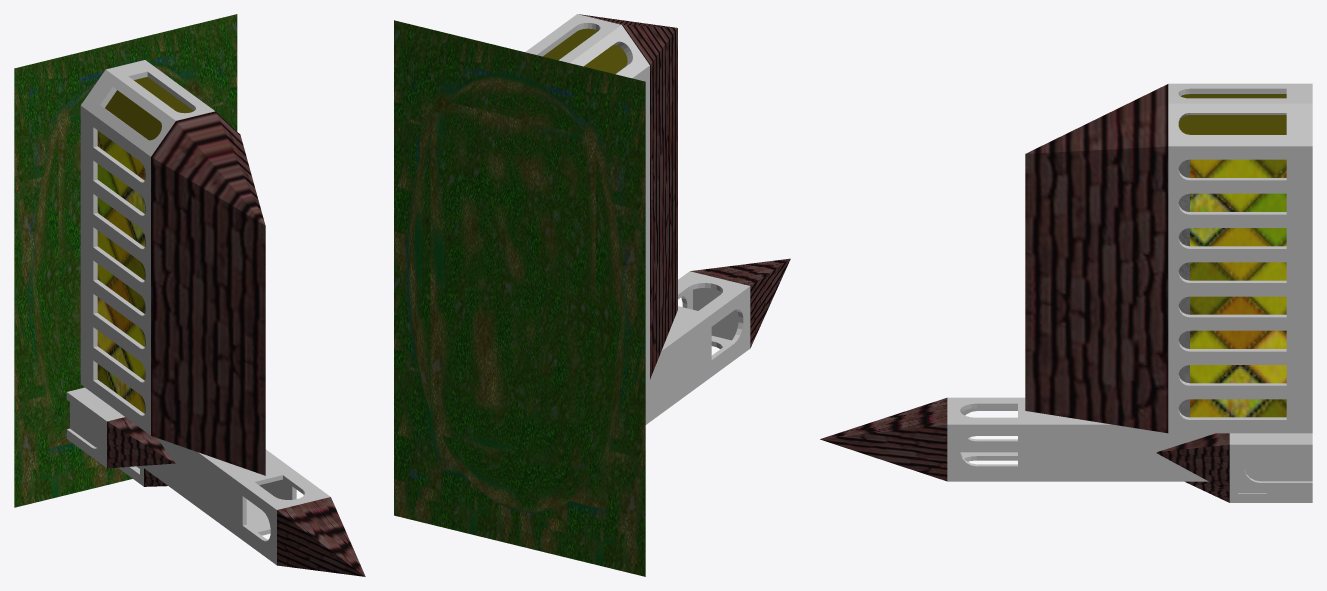
Rendered from church1357_wtf.obj.
3 renders of one model, left to right at view 1: azimuth 30°, elevation 25°; view 2: azimuth 150°, elevation 25°; view 3: azimuth 270°, elevation 25°, orthographic. The views are drawn at different scales.
Parts seen in each view (by area): view 1: group4, group3, group7, group8, group6, group5, group10, group2; view 2: group4, group7, group3, group6, group8; view 3: group7, group3, group8, group6, group5, group2, group10, group9.
Boxes of the visible parts, x1,y1,x2,y2 form: group4: [14, 14, 237, 507]; group3: [151, 111, 265, 475]; group7: [66, 60, 330, 565]; group8: [97, 77, 193, 413]; group6: [277, 497, 365, 576]; group5: [107, 417, 175, 486]; group10: [140, 178, 145, 415]; group2: [70, 402, 99, 447]; group4: [394, 20, 645, 576]; group7: [525, 14, 750, 424]; group3: [579, 14, 677, 379]; group6: [690, 258, 790, 348]; group8: [543, 28, 627, 73]; group7: [947, 83, 1312, 502]; group3: [1025, 84, 1168, 433]; group8: [1178, 94, 1286, 417]; group6: [820, 398, 947, 481]; group5: [1156, 433, 1229, 502]; group2: [1244, 452, 1312, 481]; group10: [1178, 170, 1189, 419]; group9: [1178, 159, 1189, 417].
Bounding box in the file's own units: 351 × 660 × 654.
